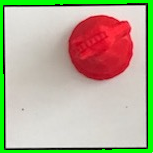Red Knight: (66, 11, 137, 84)
